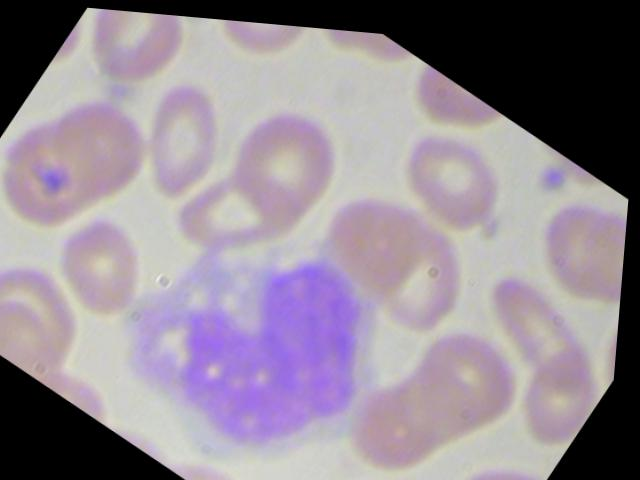Red Blood Cells: (465, 246, 625, 396), (218, 80, 369, 236), (375, 100, 530, 245), (166, 134, 317, 282), (117, 62, 254, 210), (41, 184, 177, 332), (68, 5, 203, 104), (182, 13, 327, 92), (300, 442, 450, 479)
White Blood Cells: (88, 166, 441, 479)
